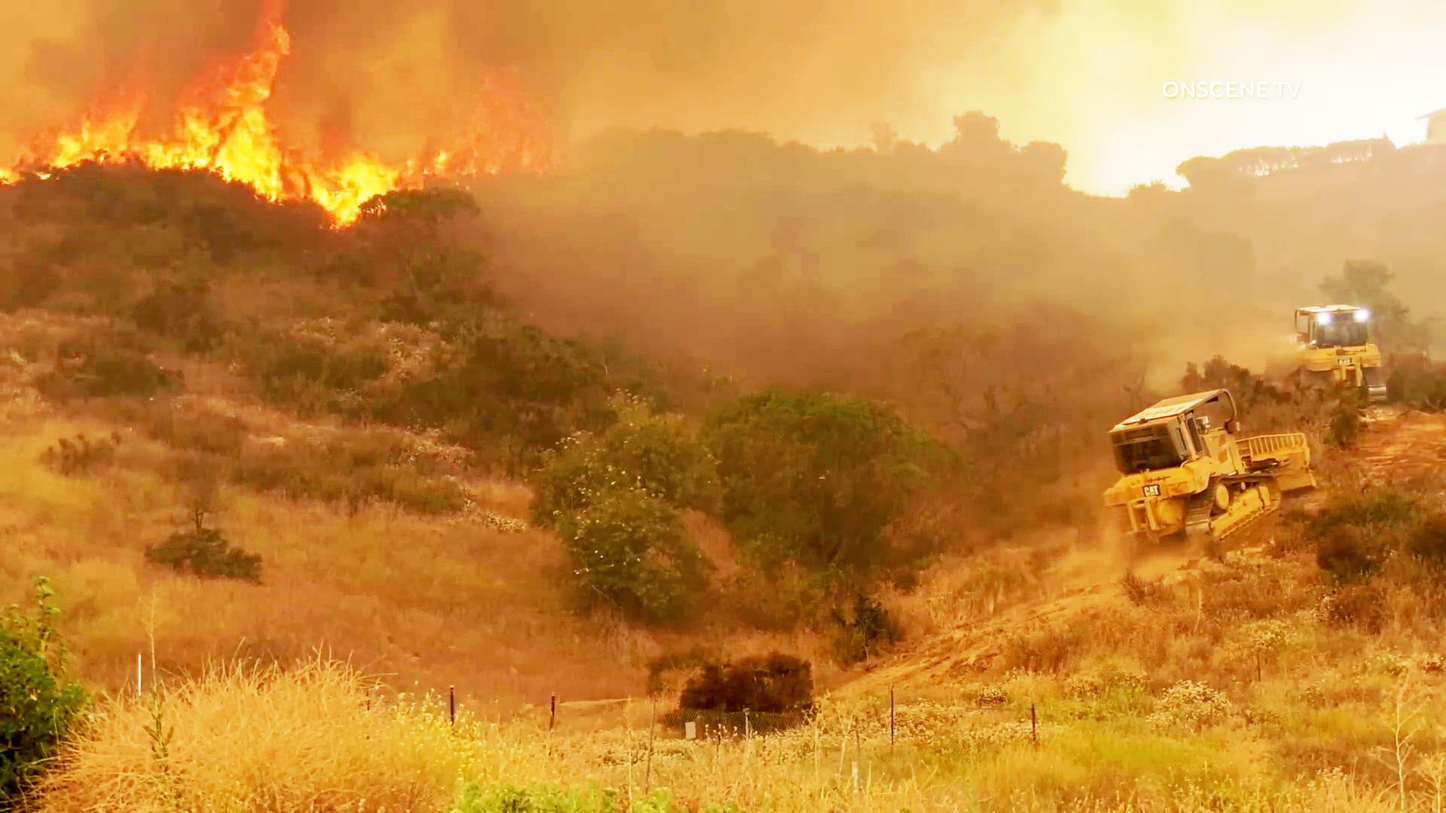fire: (202, 12, 350, 201), (296, 93, 546, 195), (12, 72, 165, 184)
